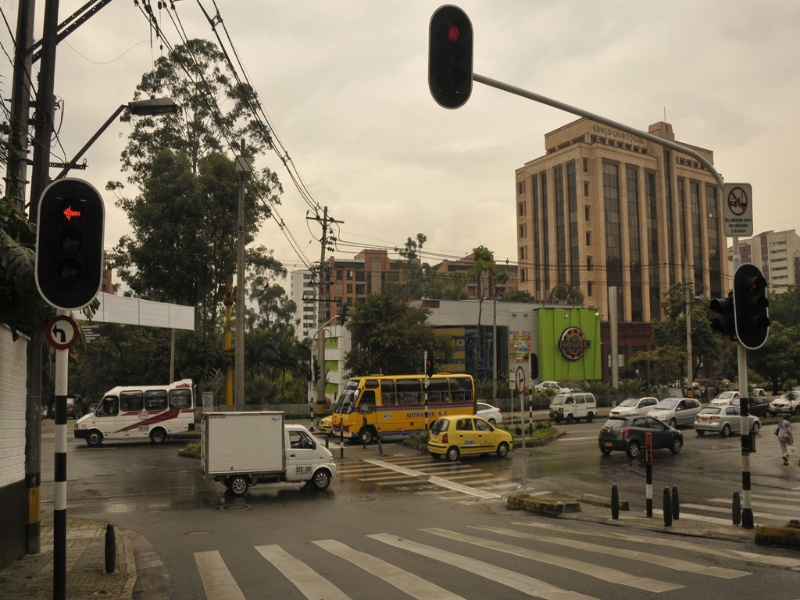left_turn_ahead: (44, 312, 79, 348)
